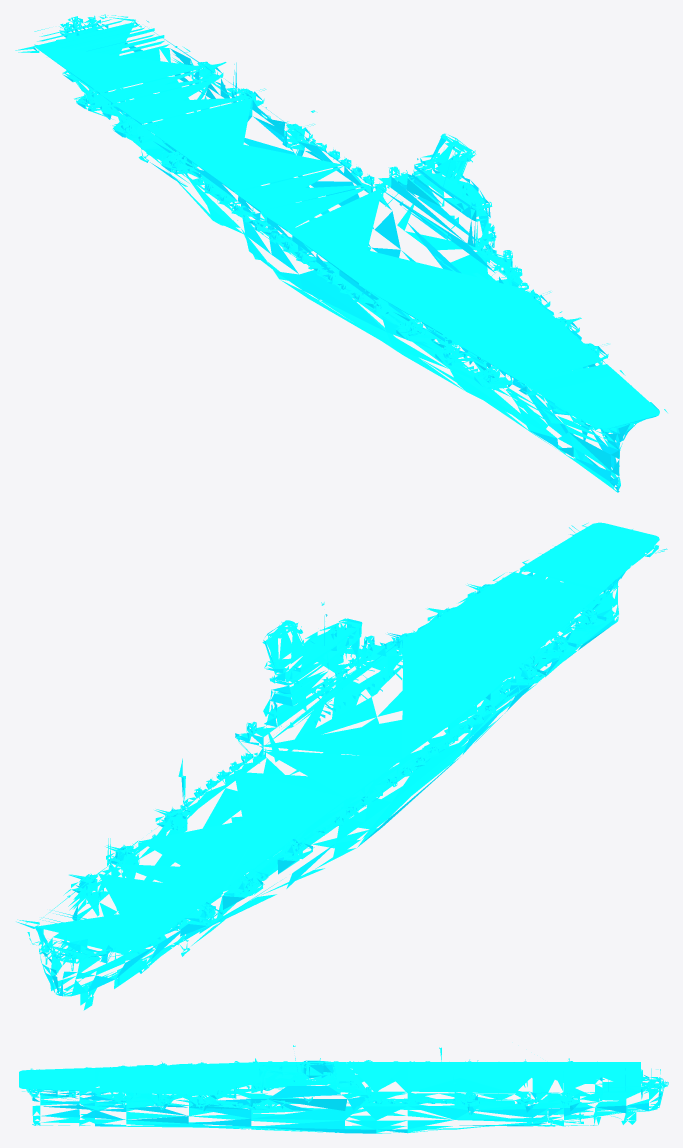
File: TST_Hakuryu.glb
3 views of the same model, one above another, from view 1: azimuth 30°, elevation 25°; view 2: azimuth 150°, elevation 25°; view 3: azimuth 270°, elevation 25° (orthographic). The views are drawn at different scales.
Bounding box in the file's own units: 3.47 × 3.37 × 19.32.
